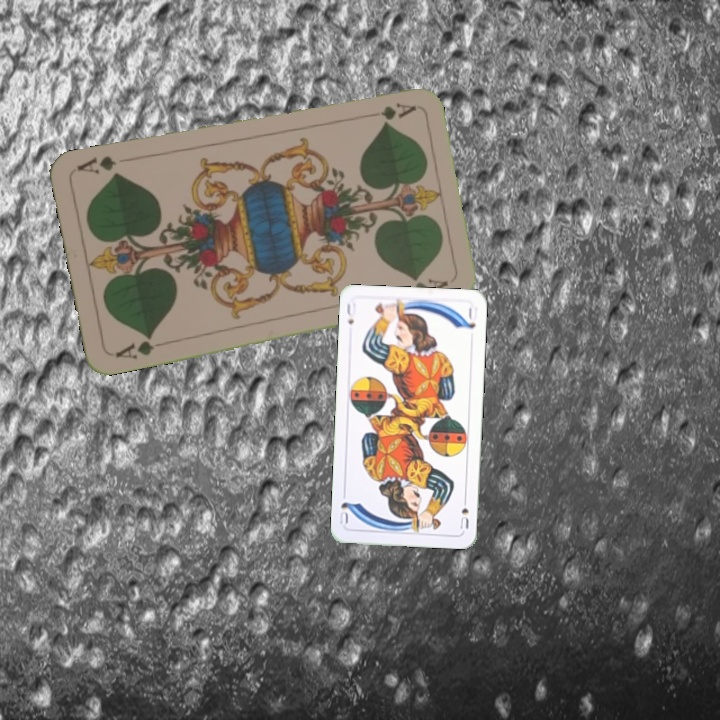GA: (111, 331, 168, 362), (358, 98, 418, 123)
SU: (456, 492, 471, 532), (343, 299, 359, 327)
